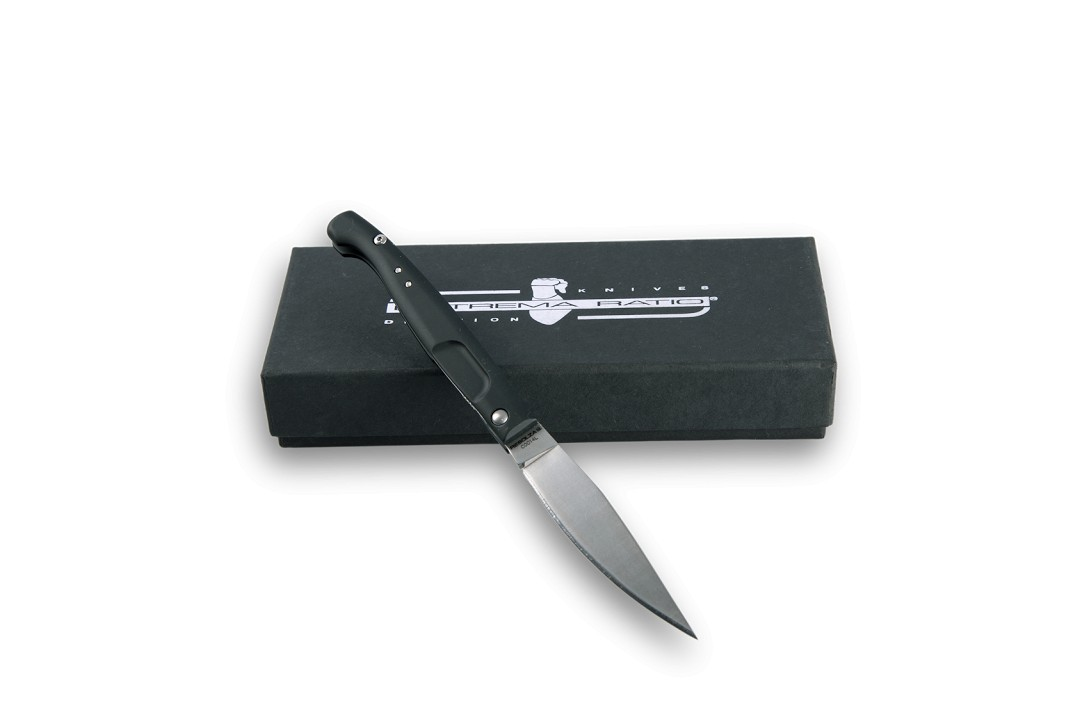knife: (476, 384, 714, 651)
